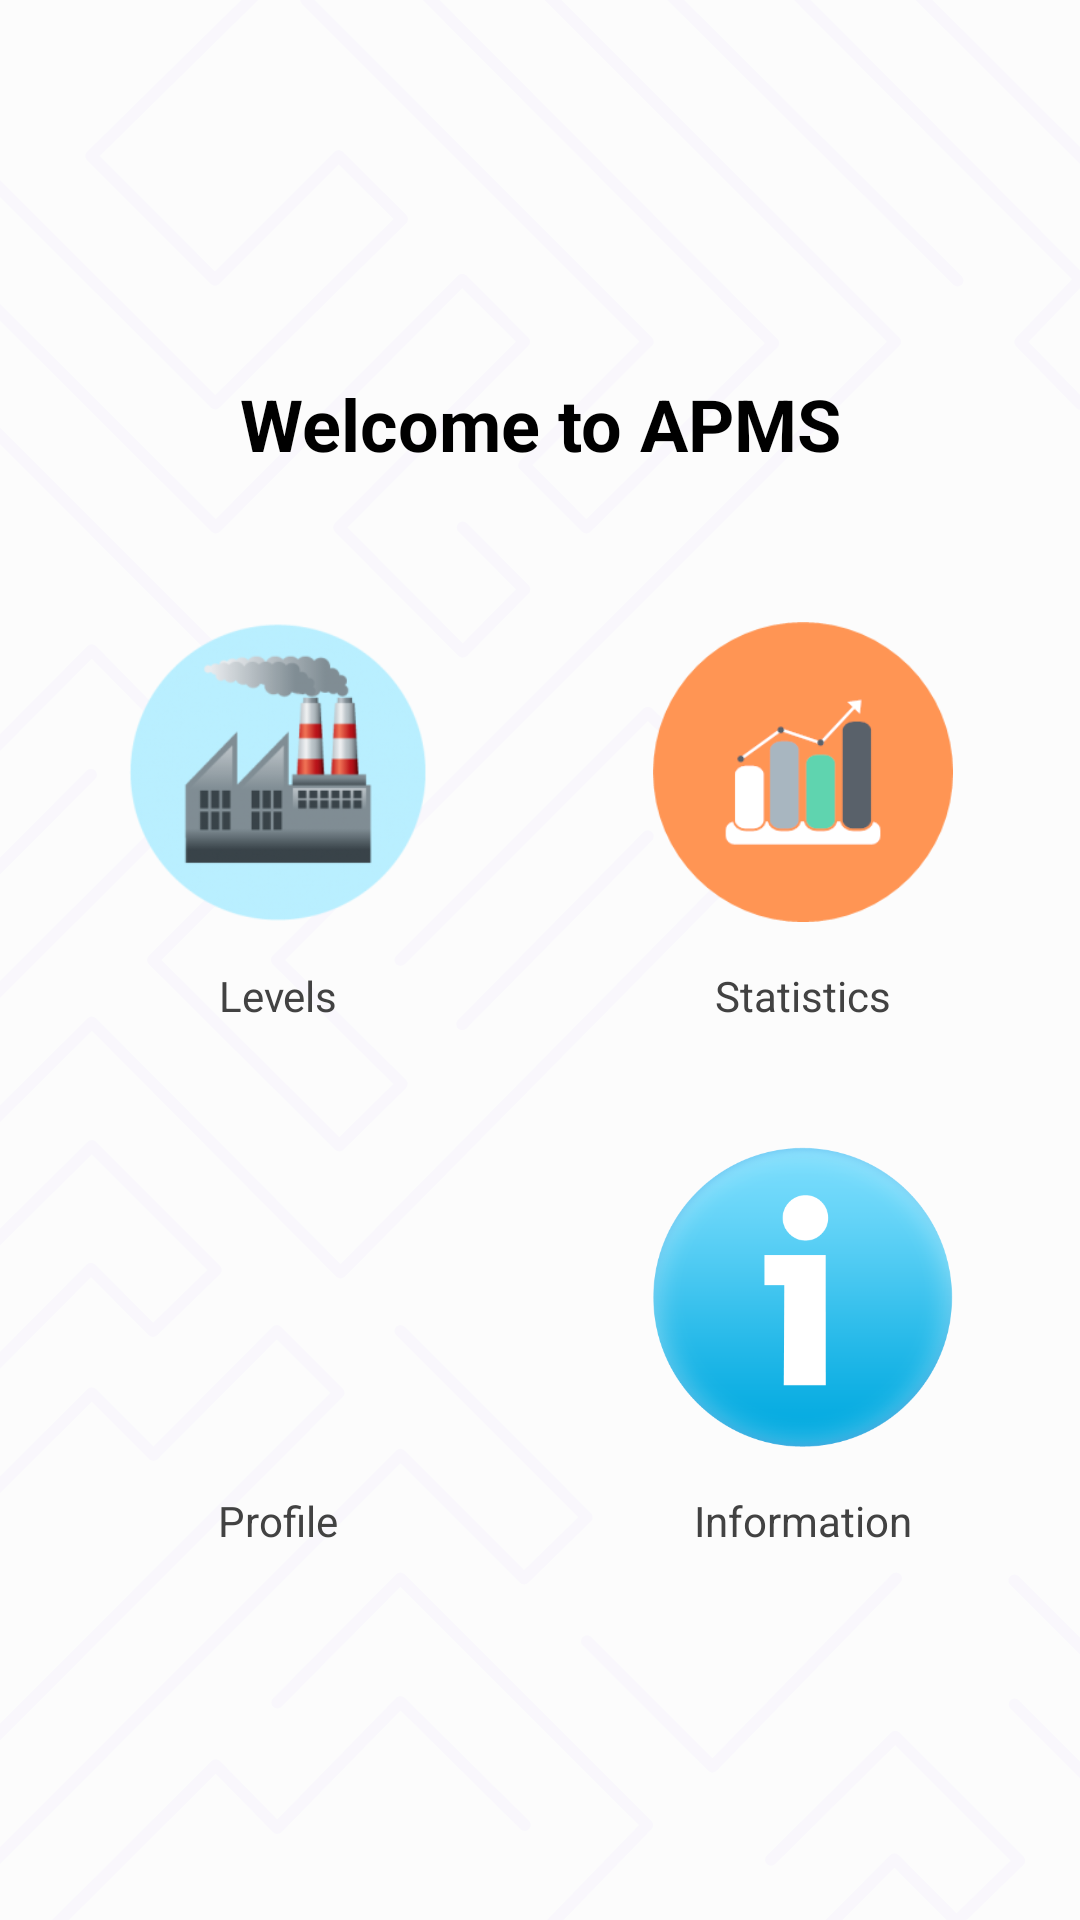

Icons on this 1080×1920 Android screen, each with the point to tap as point (x, y):
gassesimg: point (278, 772)
